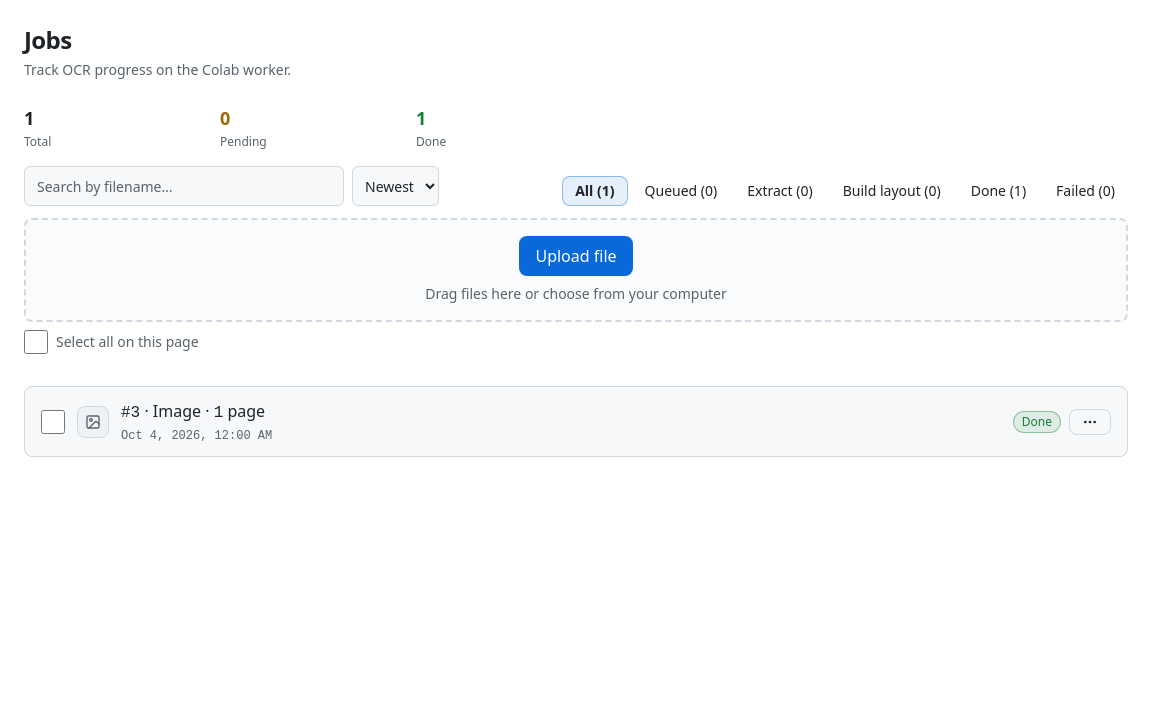
Test: bulk-retry disabled until a failed job is selected
Click the checkbox with test id "row-select-3": [53, 422] box [41,410,65,434]
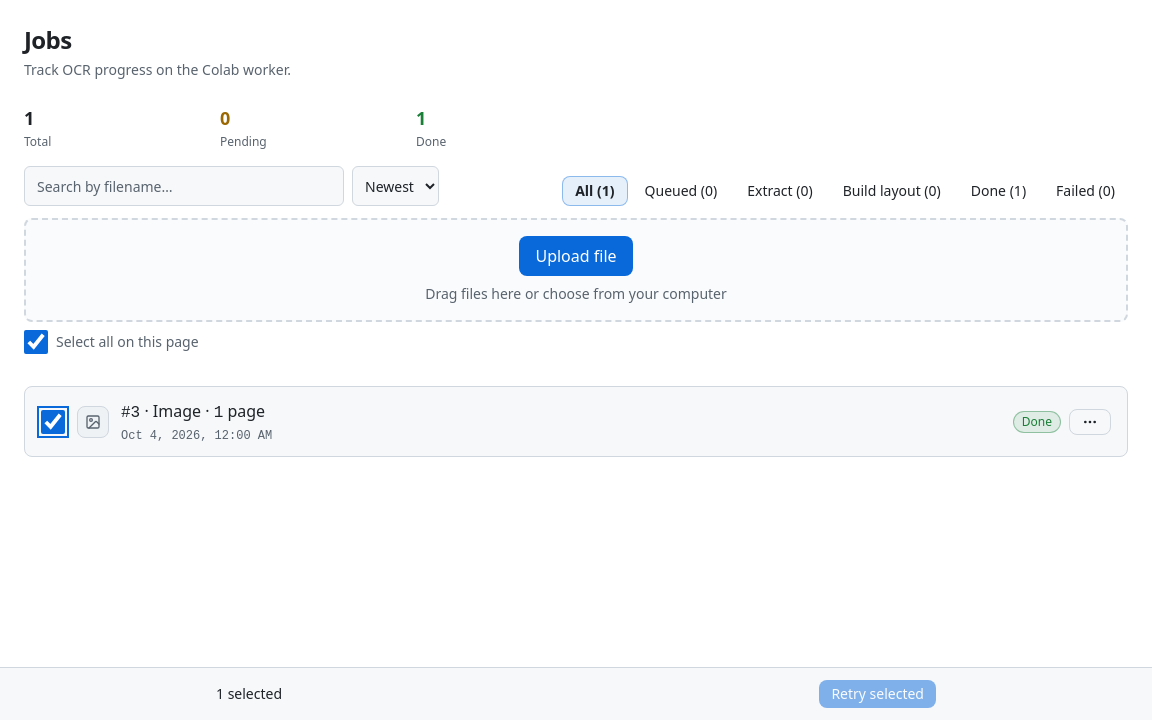
Expected: the button with test id "bulk-retry" is disabled, [819,680,936,708]
